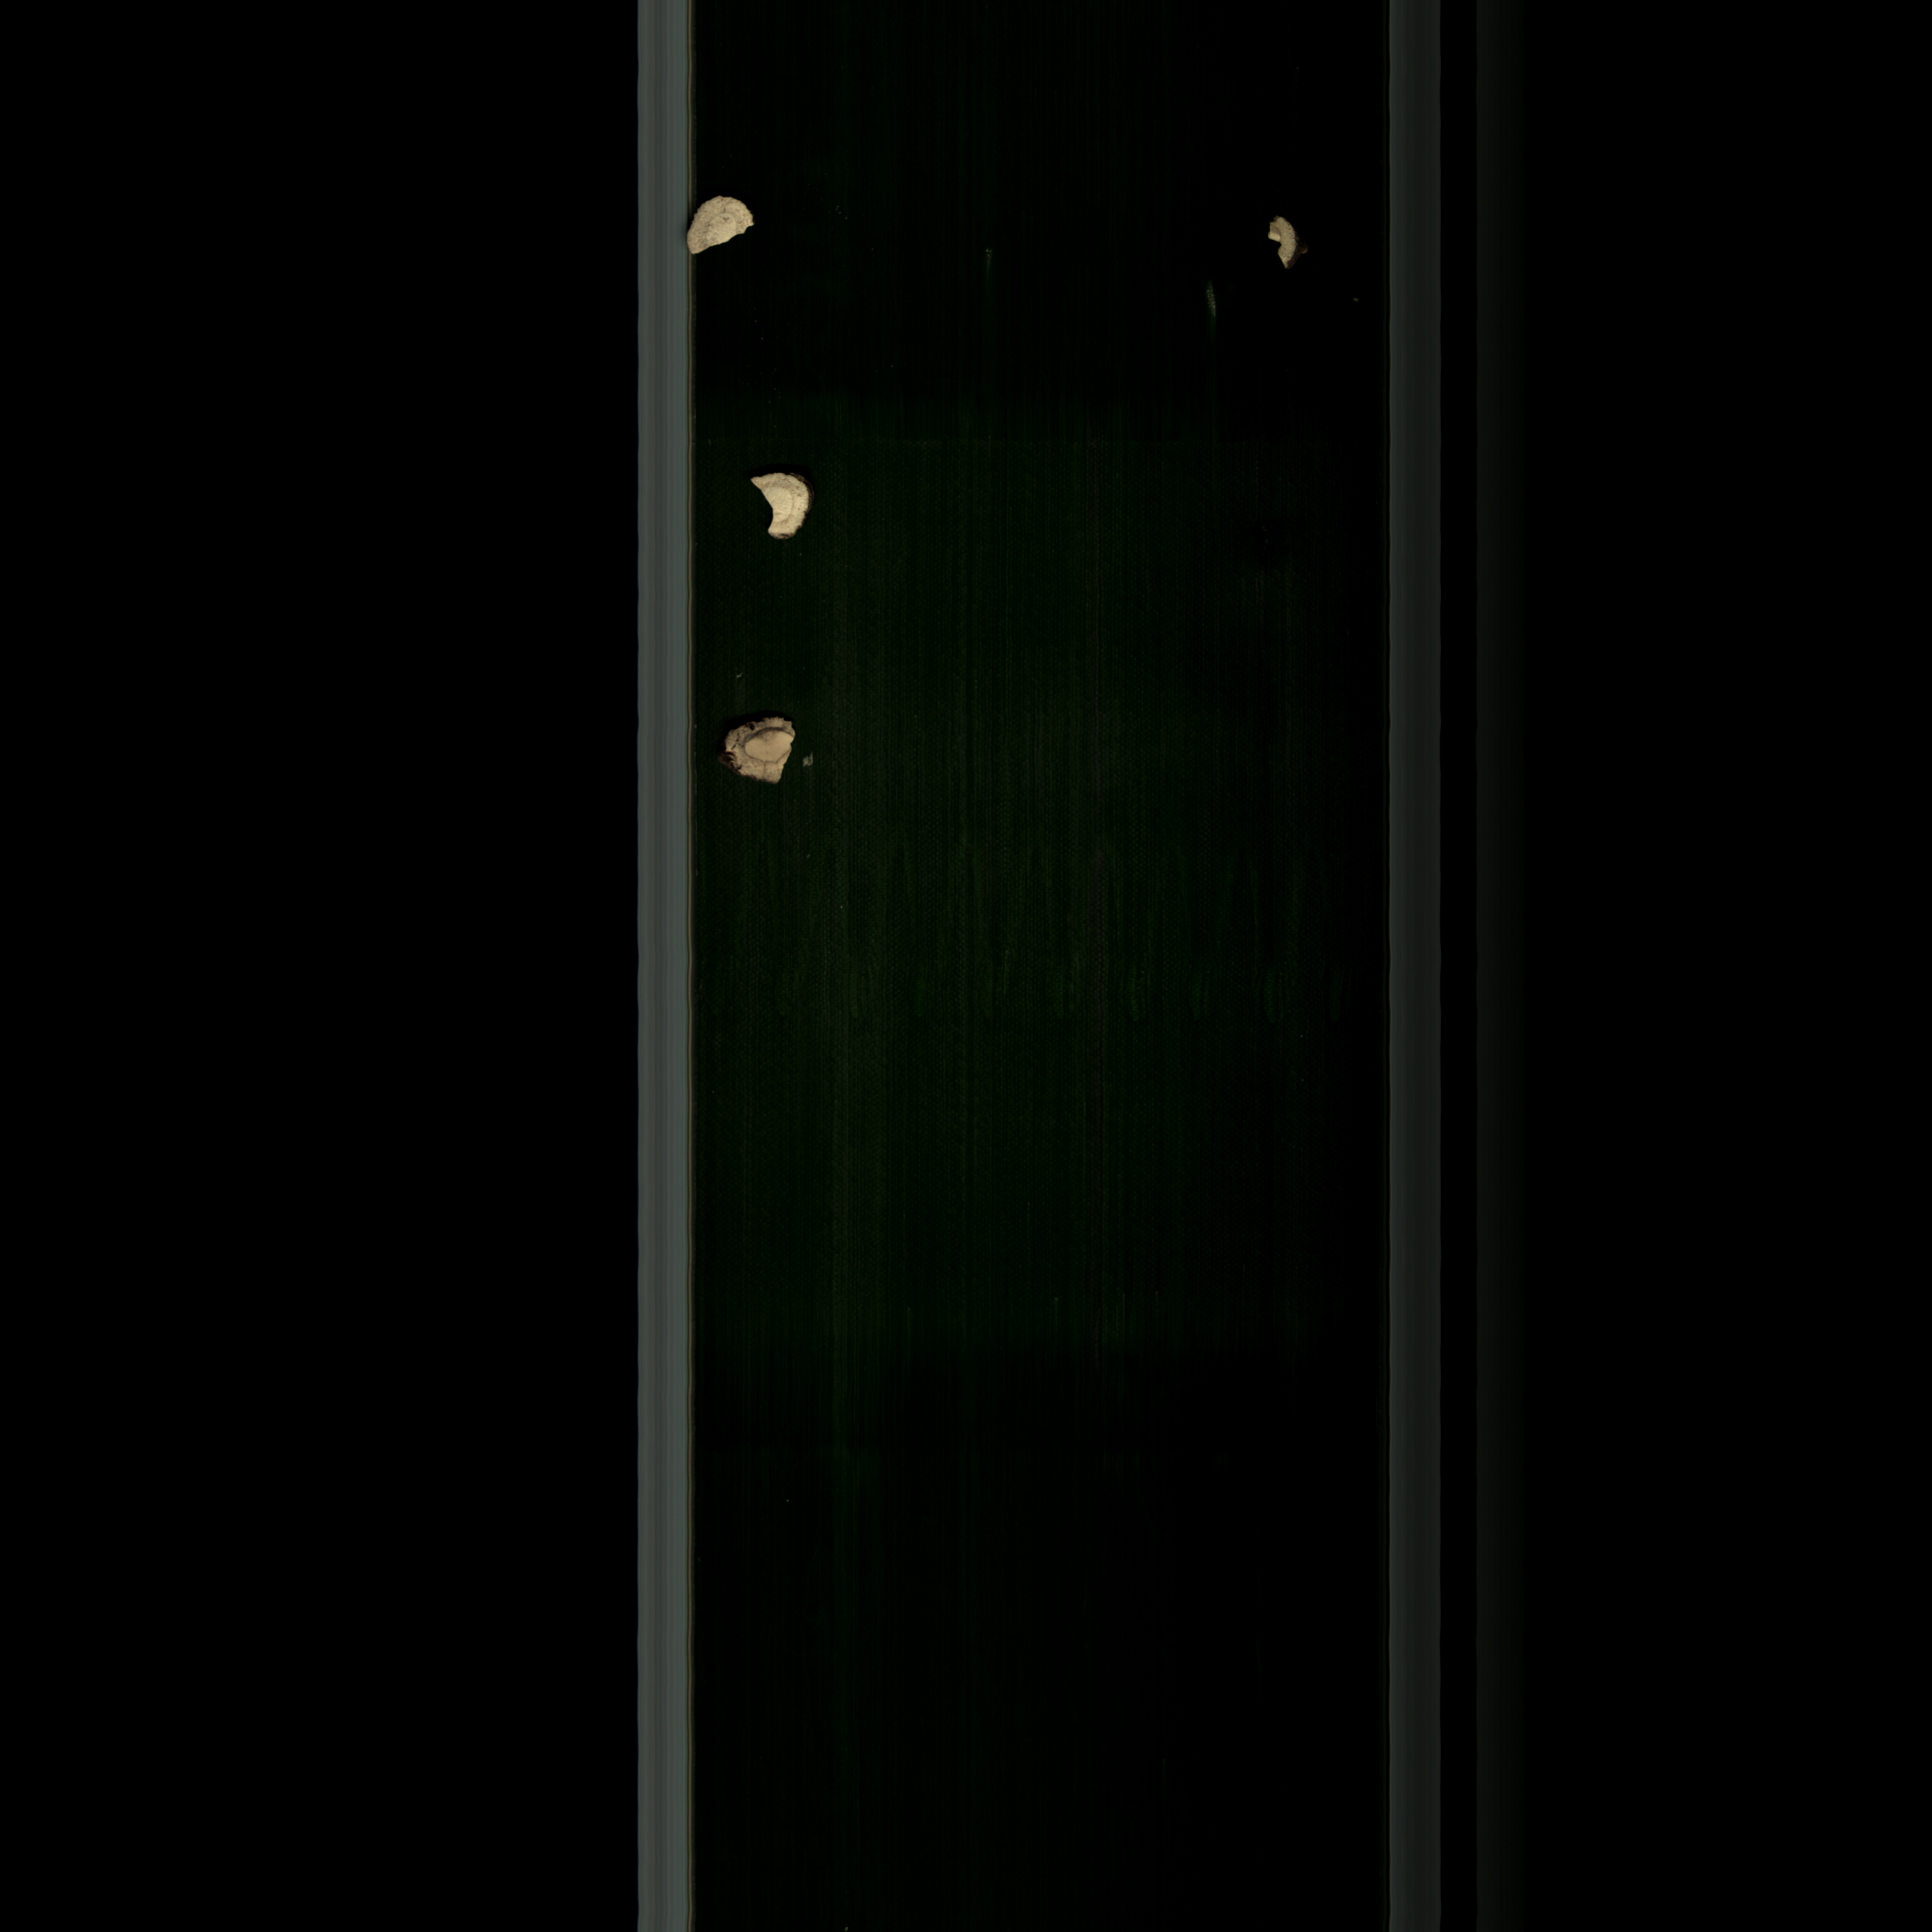debris: (750, 453, 816, 556), (688, 198, 764, 260)
moldy: (718, 694, 807, 807), (1254, 205, 1306, 287)
